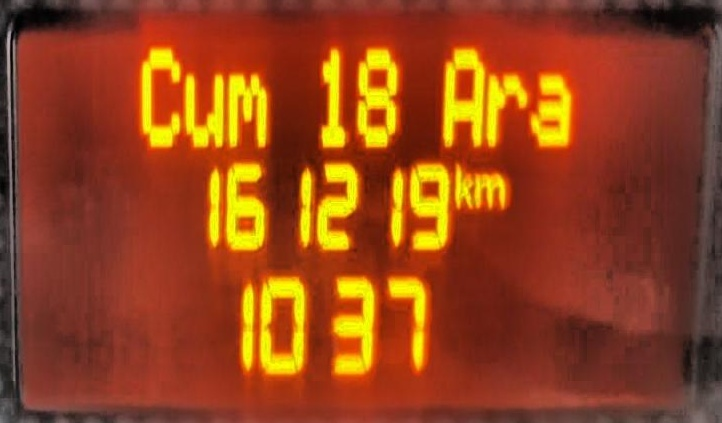0: (258, 273, 307, 377)
1: (312, 40, 351, 149), (232, 279, 255, 375), (200, 164, 222, 247), (384, 162, 404, 246), (292, 163, 312, 247)
2: (315, 158, 360, 252)
3: (330, 273, 375, 376)
6: (226, 157, 267, 253)
7: (384, 268, 427, 374)
8: (351, 39, 403, 150)
9: (407, 158, 450, 253)
X: (135, 39, 180, 150), (439, 39, 482, 149), (527, 67, 574, 151), (481, 66, 526, 148), (180, 67, 223, 151), (224, 67, 267, 150), (475, 168, 510, 210), (451, 156, 474, 211)
